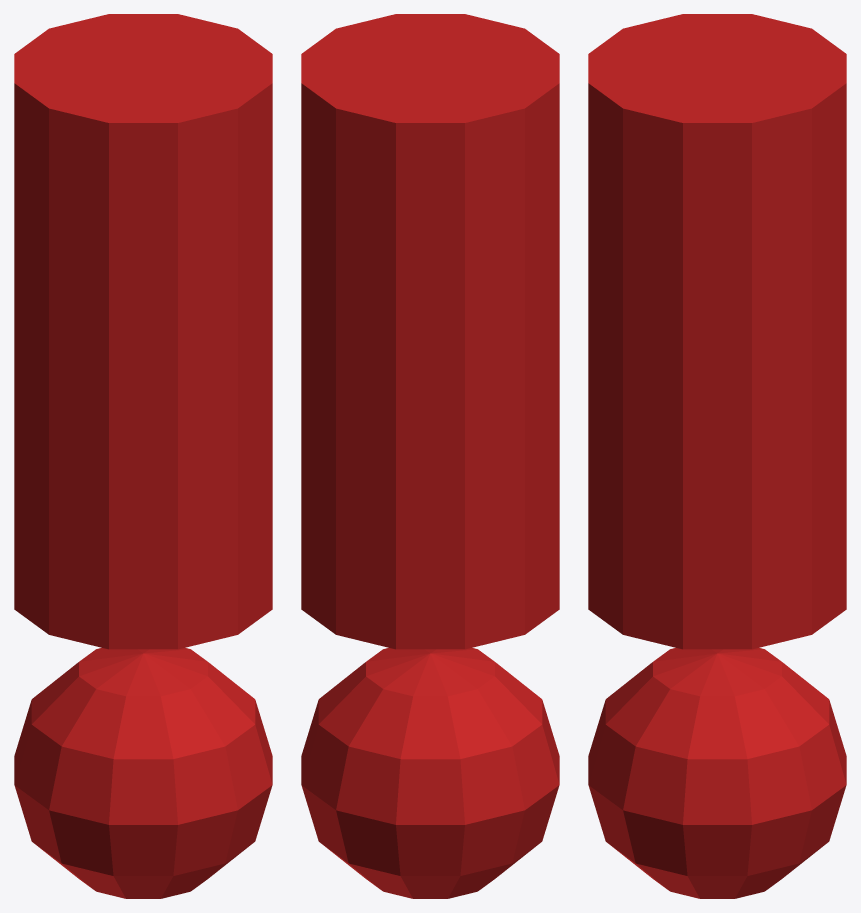
File: exclamation_sign.gltf
3 views of the same model, side by side, from view 1: azimuth 30°, elevation 25°; view 2: azimuth 150°, elevation 25°; view 3: azimuth 270°, elevation 25° (orthographic).
Parts seen in each view (by area): view 1: cylinder, sphere; view 2: cylinder, sphere; view 3: cylinder, sphere.
Boxes of the visible parts, x1,y1,x2,y2 form: cylinder: [14, 14, 272, 649]; sphere: [14, 648, 272, 898]; cylinder: [301, 14, 559, 649]; sphere: [301, 648, 559, 898]; cylinder: [588, 14, 846, 649]; sphere: [588, 648, 846, 898].
Bounding box in the file's own units: 1 × 3.5 × 1.
1 material, 1 textured.
